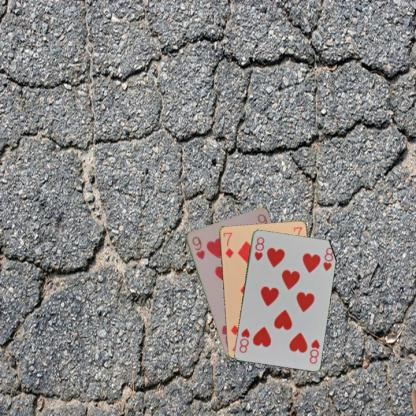7d: (220, 229, 235, 259)
8h: (306, 336, 321, 365), (251, 234, 266, 262)
9h: (189, 234, 206, 261)
